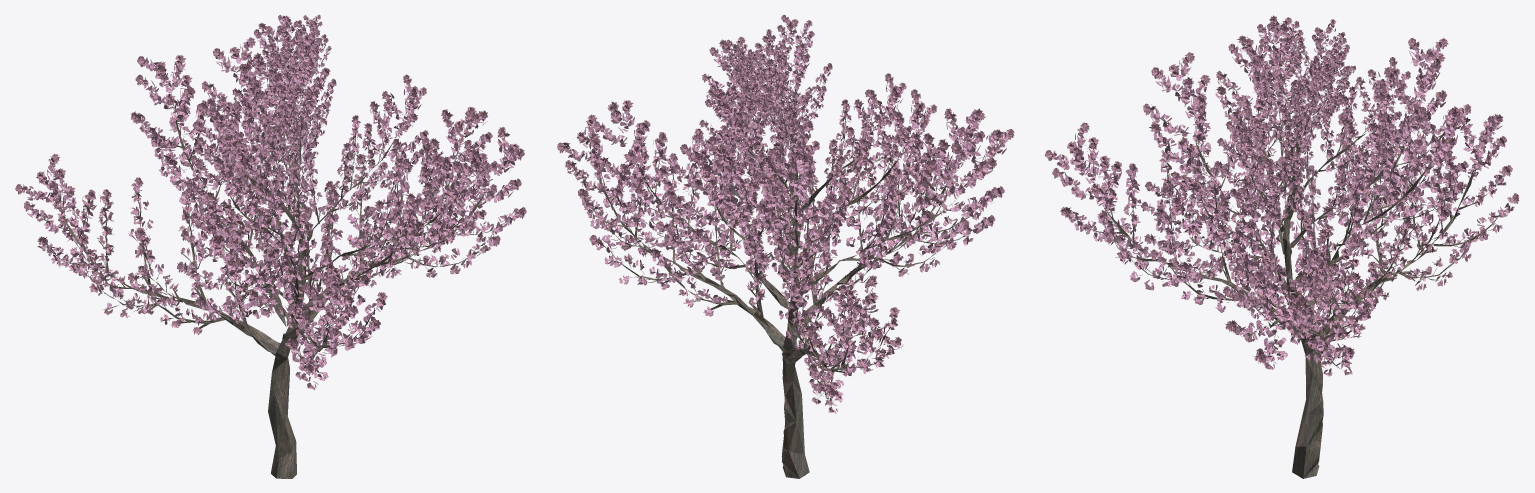
Rendered from LowPolyCherryAdultTree.fbx.
3 views of the same model, side by side, from view 1: azimuth 30°, elevation 25°; view 2: azimuth 150°, elevation 25°; view 3: azimuth 270°, elevation 25° (orthographic). The views are drawn at different scales.
Parts seen in each view (by area): view 1: CherryTreeAdult1:bloss, CherryTreeAdult1:blosstip2, CherryTreeAdult1:blossxtip2, CherryTreeAdult1:b2, CherryTreeAdult1:b1, CherryTreeAdult1:trunk, CherryTreeAdult1:b303, CherryTreeAdult1:blosstip1, CherryTreeAdult1:b301; view 2: CherryTreeAdult1:bloss, CherryTreeAdult1:blosstip2, CherryTreeAdult1:blossxtip2, CherryTreeAdult1:b2, CherryTreeAdult1:b1, CherryTreeAdult1:trunk, CherryTreeAdult1:b303, CherryTreeAdult1:blosstip1; view 3: CherryTreeAdult1:bloss, CherryTreeAdult1:blosstip2, CherryTreeAdult1:blossxtip2, CherryTreeAdult1:b2, CherryTreeAdult1:trunk, CherryTreeAdult1:b1, CherryTreeAdult1:b303, CherryTreeAdult1:blosstip1, CherryTreeAdult1:b301, CherryTreeAdult1:blossxtip1.
Boxes of the visible parts, left/top/right/bottom form: CherryTreeAdult1:bloss: left=23, top=16, right=520, bottom=389; CherryTreeAdult1:blosstip2: left=16, top=15, right=525, bottom=373; CherryTreeAdult1:blossxtip2: left=15, top=15, right=526, bottom=373; CherryTreeAdult1:b2: left=40, top=27, right=512, bottom=375; CherryTreeAdult1:b1: left=62, top=98, right=487, bottom=359; CherryTreeAdult1:trunk: left=268, top=143, right=306, bottom=478; CherryTreeAdult1:b303: left=33, top=160, right=477, bottom=329; CherryTreeAdult1:blosstip1: left=36, top=19, right=514, bottom=291; CherryTreeAdult1:b301: left=212, top=94, right=468, bottom=256; CherryTreeAdult1:bloss: left=562, top=19, right=1008, bottom=413; CherryTreeAdult1:blosstip2: left=557, top=15, right=1014, bottom=397; CherryTreeAdult1:blossxtip2: left=557, top=15, right=1013, bottom=398; CherryTreeAdult1:b2: left=578, top=47, right=990, bottom=398; CherryTreeAdult1:b1: left=597, top=108, right=963, bottom=372; CherryTreeAdult1:trunk: left=781, top=135, right=809, bottom=478; CherryTreeAdult1:b303: left=593, top=173, right=894, bottom=410; CherryTreeAdult1:blosstip1: left=577, top=19, right=1000, bottom=313; CherryTreeAdult1:bloss: left=1054, top=22, right=1514, bottom=376; CherryTreeAdult1:blosstip2: left=1046, top=16, right=1519, bottom=361; CherryTreeAdult1:blossxtip2: left=1045, top=15, right=1518, bottom=363; CherryTreeAdult1:b2: left=1068, top=40, right=1499, bottom=365; CherryTreeAdult1:trunk: left=1283, top=137, right=1323, bottom=478; CherryTreeAdult1:b1: left=1103, top=105, right=1474, bottom=354; CherryTreeAdult1:b303: left=1273, top=145, right=1502, bottom=371; CherryTreeAdult1:blosstip1: left=1067, top=22, right=1494, bottom=281; CherryTreeAdult1:b301: left=1162, top=66, right=1454, bottom=274; CherryTreeAdult1:blossxtip1: left=1068, top=23, right=1495, bottom=280.
Size of the model in its own units: 99.47 by 108 by 101.
